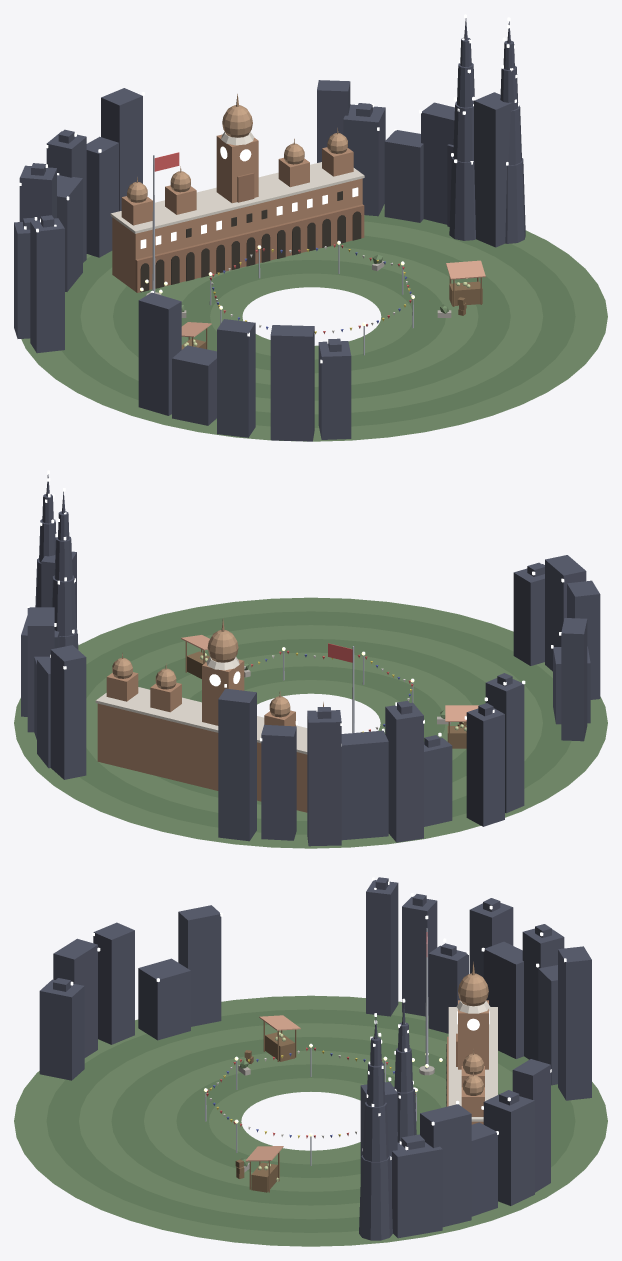
Rendered from arena_kl.glb.
3 renders of one model, top to bottom at view 1: azimuth 30°, elevation 25°; view 2: azimuth 150°, elevation 25°; view 3: azimuth 270°, elevation 25°, orthographic.
Parts seen in each view (by area): view 1: EnvSkyline, EnvEarth, EnvSultanAbdulSamad, EnvStalls, EnvFlagpole; view 2: EnvSkyline, EnvEarth, EnvSultanAbdulSamad, EnvStalls, EnvFlagpole; view 3: EnvSkyline, EnvEarth, EnvSultanAbdulSamad, EnvStalls, EnvCityLights, EnvFlagpole.
Boxes of the visible parts, bbox=[...] form: EnvSkyline: bbox=[14, 18, 525, 441]; EnvEarth: bbox=[21, 204, 607, 441]; EnvSultanAbdulSamad: bbox=[110, 94, 364, 292]; EnvStalls: bbox=[181, 260, 485, 349]; EnvFlagpole: bbox=[140, 152, 179, 295]; EnvSkyline: bbox=[21, 474, 600, 846]; EnvEarth: bbox=[14, 597, 607, 848]; EnvSultanAbdulSamad: bbox=[95, 618, 323, 812]; EnvStalls: bbox=[181, 635, 478, 748]; EnvFlagpole: bbox=[328, 643, 354, 732]; EnvSkyline: bbox=[39, 877, 591, 1240]; EnvEarth: bbox=[14, 995, 607, 1246]; EnvSultanAbdulSamad: bbox=[446, 962, 497, 1124]; EnvStalls: bbox=[235, 1015, 300, 1192]; EnvCityLights: bbox=[70, 877, 566, 1159]; EnvFlagpole: bbox=[412, 928, 442, 1075].
Bounding box in the file's own units: 38.4 × 15.68 × 38.4.
